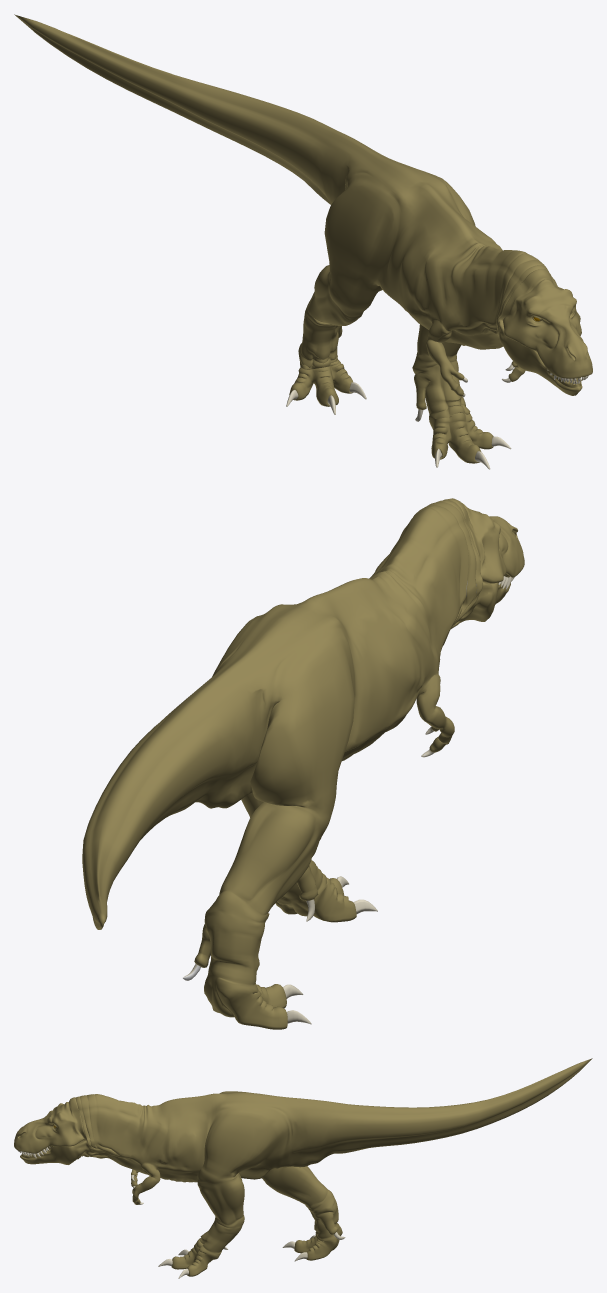
The model's file is basictrex.glb.
3 renders of one model, top to bottom at view 1: azimuth 30°, elevation 25°; view 2: azimuth 150°, elevation 25°; view 3: azimuth 270°, elevation 25°, orthographic. The views are drawn at different scales.
Parts seen in each view (by area): view 1: Skin, claws1; view 2: Skin, claws1; view 3: Skin, claws1.
Part boxes in pixels (x1,y1,x2,y2): Skin: (14, 14, 592, 463); claws1: (286, 364, 513, 469); Skin: (82, 498, 524, 1029); claws1: (183, 726, 434, 1024); Skin: (14, 1058, 592, 1276); claws1: (131, 1175, 345, 1278).
Bounding box in the file's own units: 609 × 826 × 2560.
